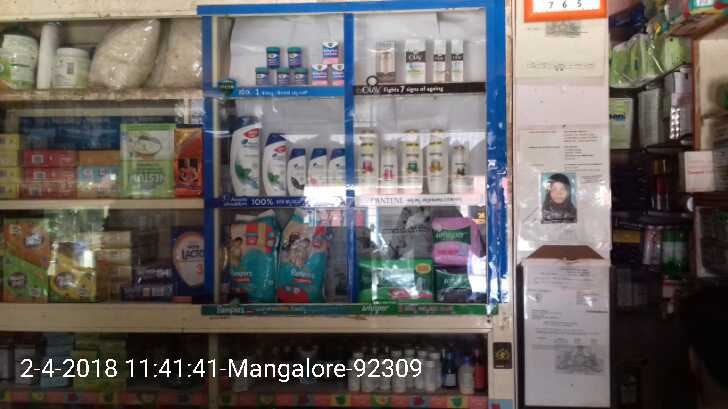vicks: (251, 46, 313, 85), (315, 39, 348, 85)
